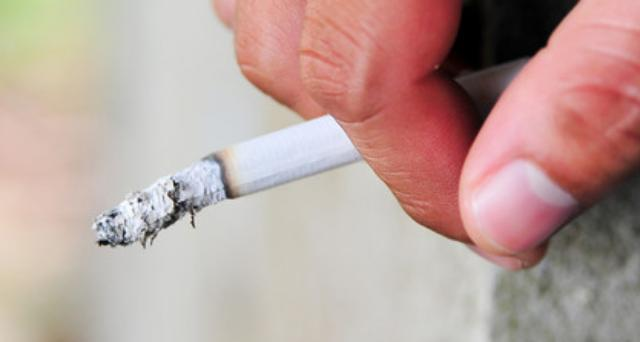Smoking: (93, 53, 563, 249)
